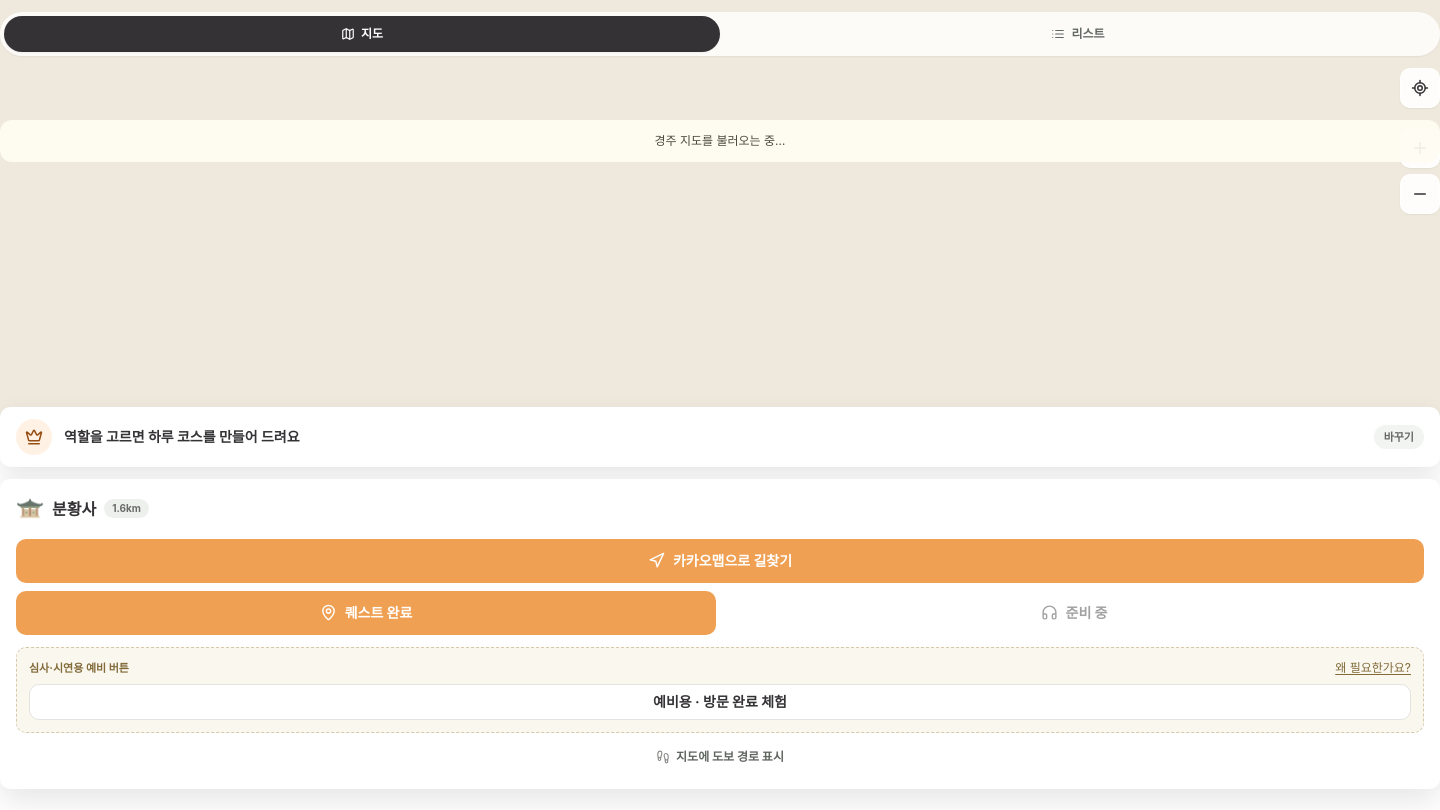
Test case: GyeongjuMap2D › saves an explicit demo completion without requesting GPS
The image size is (1440, 810).
Click the button "예비용 · 방문 완료 체험": (720, 702) x1=29 y1=684 x2=1411 y2=720
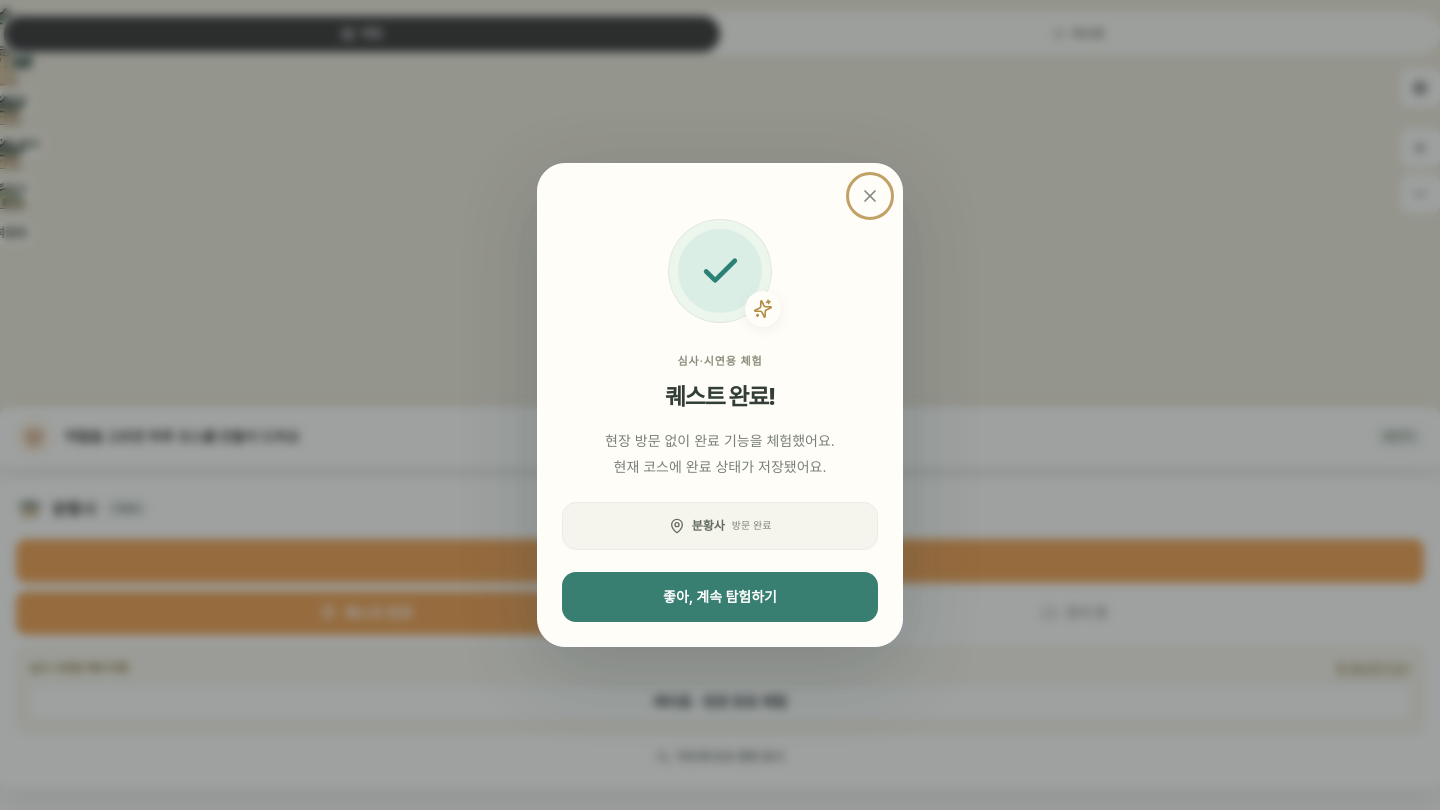
Now the text "심사·시연용 체험" is shown, box x1=678 y1=354 x2=762 y2=368
